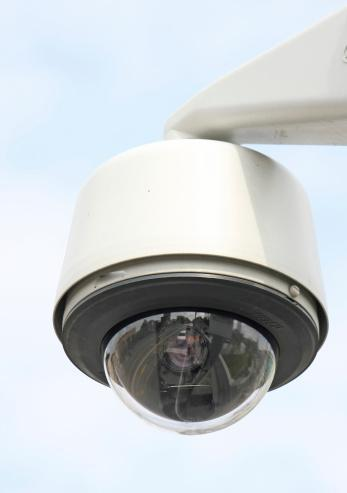360-Cam: (39, 122, 344, 440)
